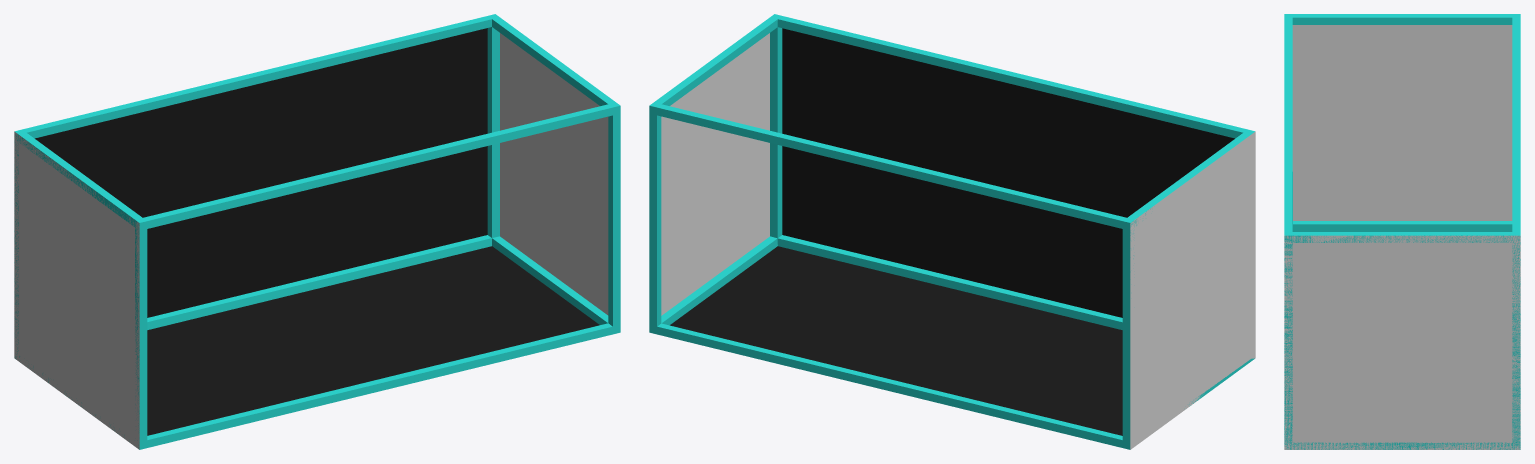
The model's file is Mod_Room.fbx.
3 renders of one model, left to right at view 1: azimuth 30°, elevation 25°; view 2: azimuth 150°, elevation 25°; view 3: azimuth 270°, elevation 25°, orthographic. The views are drawn at different scales.
Parts seen in each view (by area): view 1: Cube; view 2: Cube; view 3: Cube.
Boxes of the visible parts, x1,y1,x2,y2 form: Cube: (14, 14, 620, 449); Cube: (649, 14, 1255, 449); Cube: (1284, 14, 1520, 449).
Size of the model in its own units: 2641 by 1191 by 1191.
